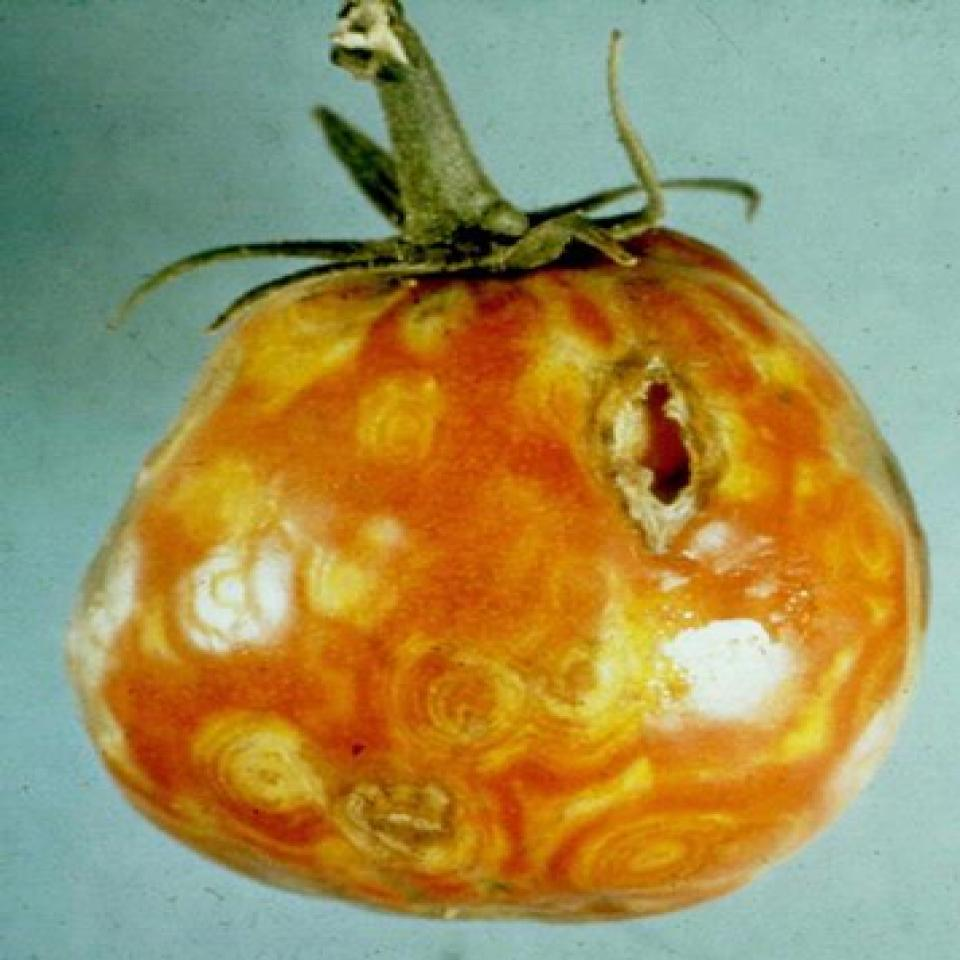Spotted wilt Virus: (62, 223, 930, 926)
